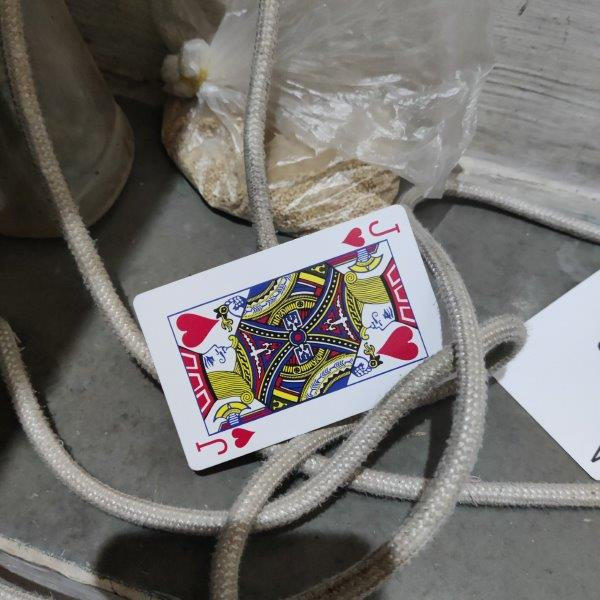Jack of Hearts: (133, 203, 458, 471)
